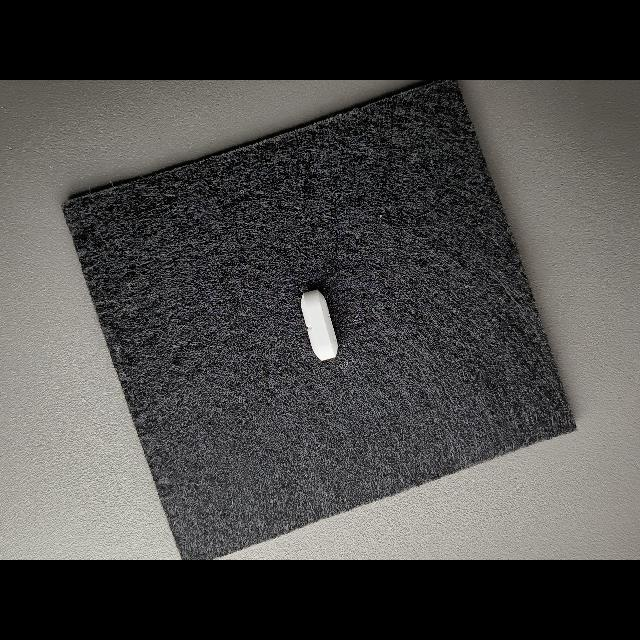Intact Pill: (301, 289, 337, 361)
